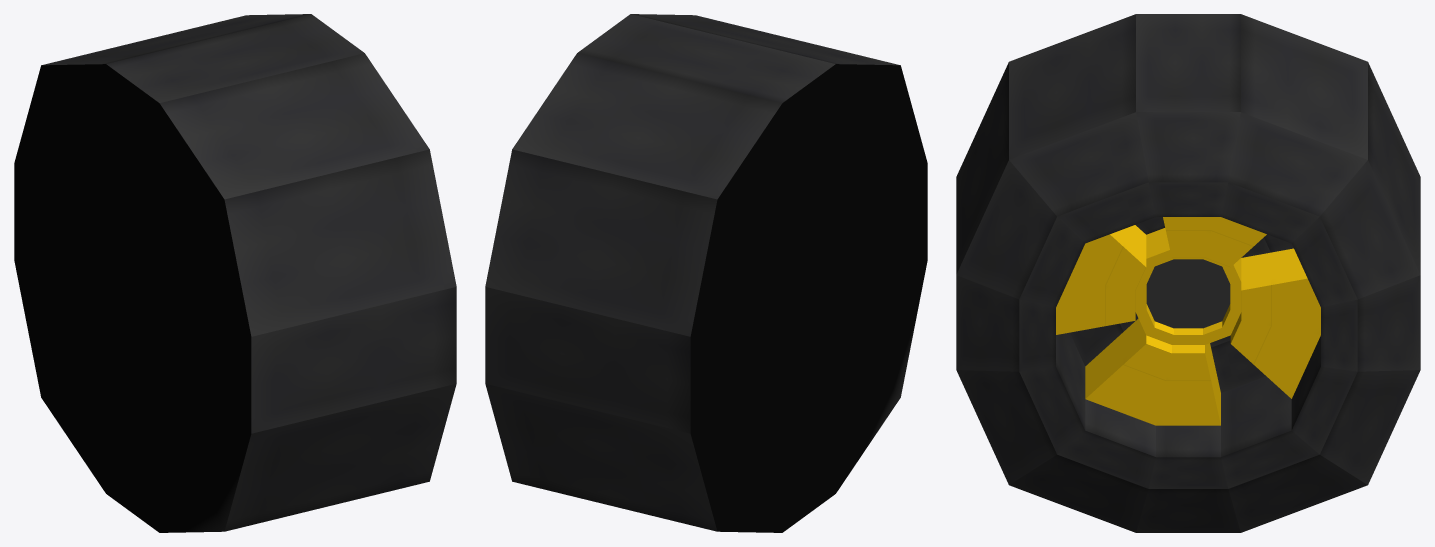
The model's file is roda-frontal-certa.fbx.
3 renders of one model, left to right at view 1: azimuth 30°, elevation 25°; view 2: azimuth 150°, elevation 25°; view 3: azimuth 270°, elevation 25°, orthographic. The views are drawn at different scales.
Visible parts, largest first — view 1: Rodas; view 2: Rodas; view 3: Rodas.
Boxes of the visible parts, <box> form: Rodas: <box>14,14,456,532</box>; Rodas: <box>485,14,927,532</box>; Rodas: <box>956,14,1420,532</box>.
Size of the model in its own units: 14.96 by 26.05 by 26.05.
